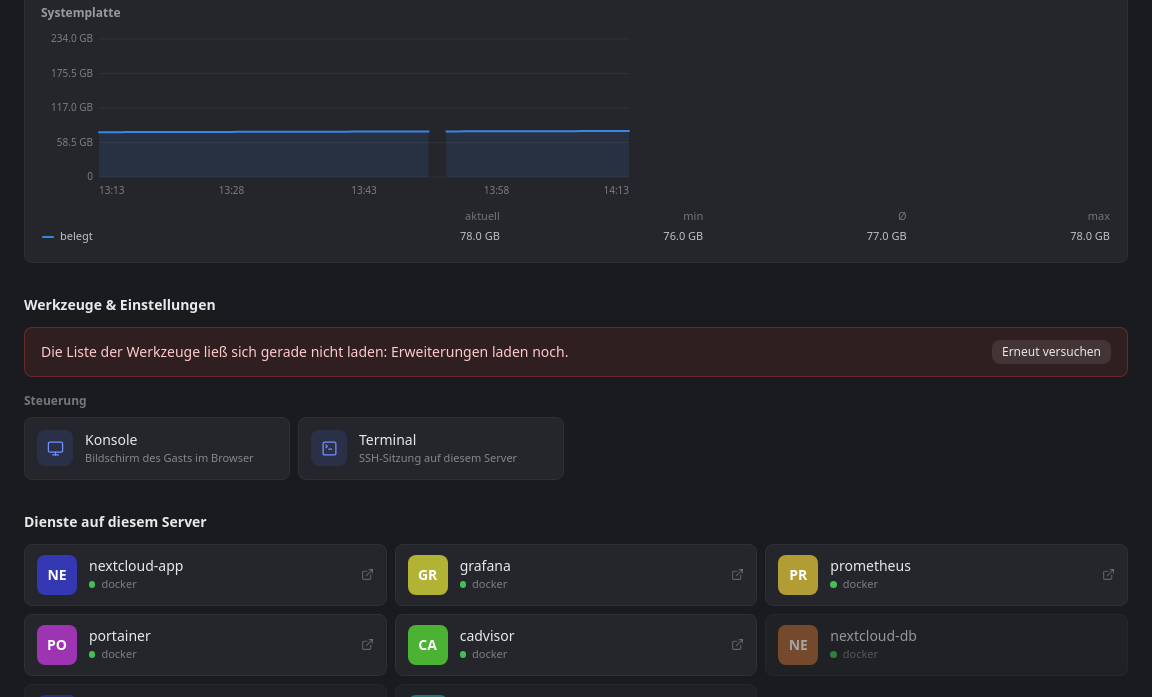
HostPage bei Ladefehlern › Werkzeuge nicht ladbar: Grund statt „Noch keine Werkzeuge“ samt Hinweis auf Module
(page scrolled)
Expected: the text "Die Liste der Werkzeuge ließ sich gerade nicht laden: Erweiterungen laden noch." is shown, [41, 342, 568, 361]
Click the button "Erneut versuchen": click(1052, 352) [992, 340, 1111, 364]
(page scrolled)
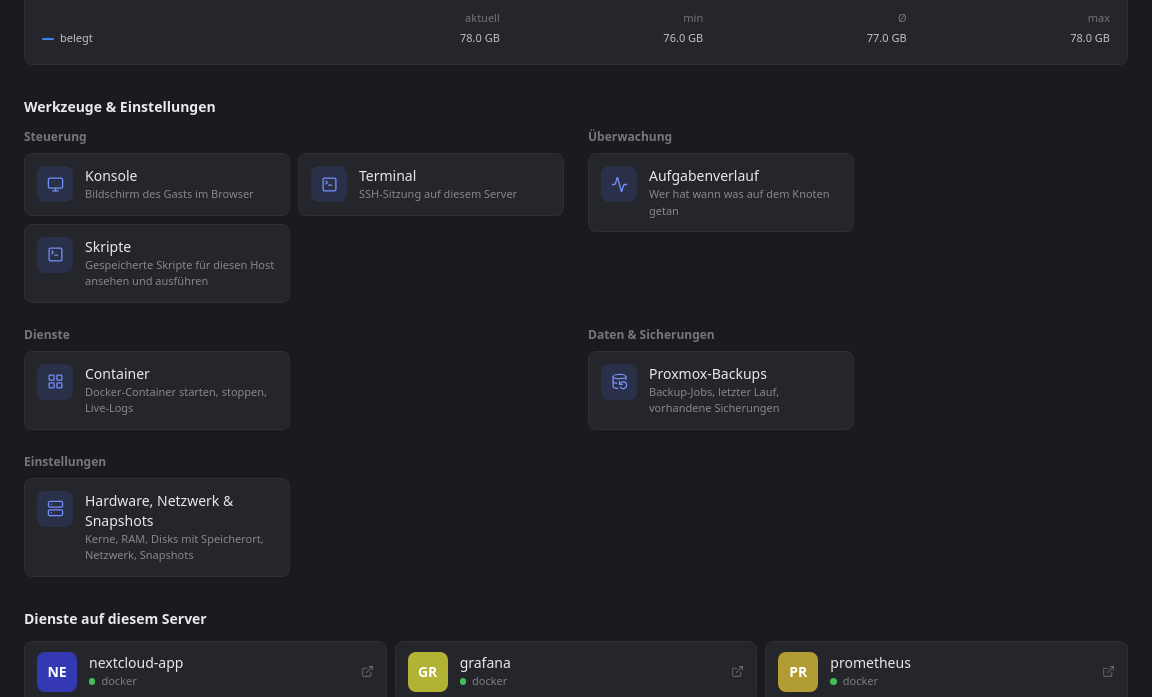
Expected: the element with test id "host-tools" is shown, [24, 128, 854, 576]
Expected: the text "Die Liste der Werkzeuge" is gone
